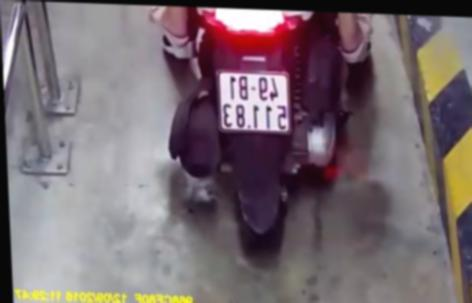License_Plate: (211, 64, 296, 147)
